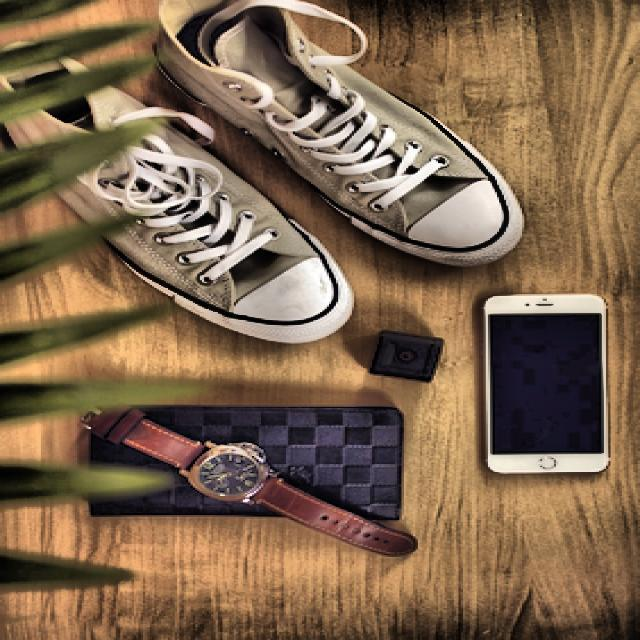Phone: (476, 292, 610, 473)
